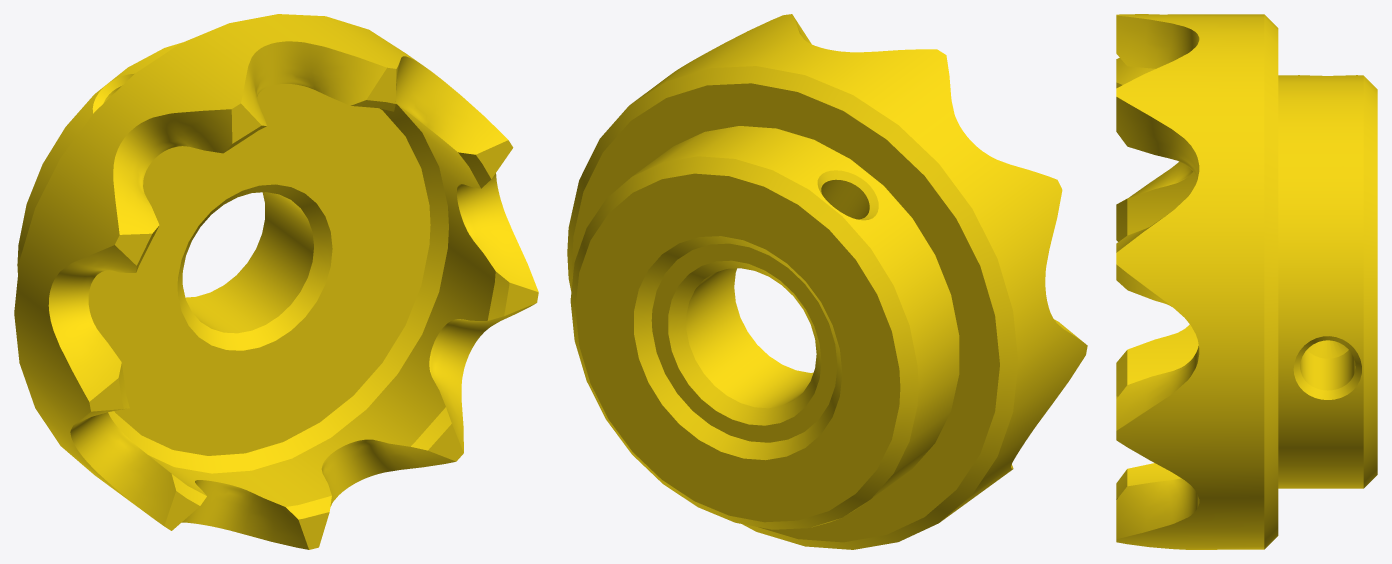
File: A26_W110_crownGear.gltf
The picture shows the model from 3 angles, left to right: view 1: azimuth 30°, elevation 25°; view 2: azimuth 150°, elevation 25°; view 3: azimuth 270°, elevation 25°; orthographic projection. The views are drawn at different scales.
Visible parts, largest first — view 1: mesh16840, mesh16867, mesh16843, mesh16841, mesh16838, mesh16852, mesh16849, mesh16855, mesh16839, mesh16846, mesh16858, mesh16869 (+15 smaller); view 2: mesh16834, mesh16829, mesh16867, mesh16825, mesh16842, mesh16833, mesh16836, mesh16838, mesh16835, mesh16837, mesh16823, mesh16824; view 3: mesh16867, mesh16825, mesh16842, mesh16833, mesh16843, mesh16864, mesh16855, mesh16858, mesh16861, mesh16831, mesh16830, mesh16849 (+4 smaller).
Boxes of the visible parts, x1,y1,x2,y2 form: mesh16840: [88, 84, 430, 455]; mesh16867: [14, 14, 418, 514]; mesh16843: [148, 103, 495, 506]; mesh16841: [108, 104, 448, 473]; mesh16838: [185, 192, 313, 333]; mesh16852: [113, 109, 232, 234]; mesh16849: [48, 245, 136, 401]; mesh16855: [241, 41, 386, 125]; mesh16839: [177, 184, 332, 350]; mesh16846: [70, 408, 175, 525]; mesh16858: [395, 56, 507, 154]; mesh16869: [182, 480, 308, 549]; mesh16834: [575, 173, 900, 522]; mesh16829: [572, 83, 999, 542]; mesh16867: [632, 14, 1087, 521]; mesh16825: [632, 126, 959, 527]; mesh16842: [567, 66, 1018, 549]; mesh16833: [570, 156, 918, 529]; mesh16836: [651, 243, 837, 442]; mesh16838: [686, 268, 813, 408]; mesh16835: [634, 236, 842, 460]; mesh16837: [668, 260, 821, 425]; mesh16823: [821, 179, 869, 219]; mesh16824: [817, 170, 878, 220]; mesh16867: [1116, 14, 1264, 549]; mesh16825: [1278, 75, 1363, 488]; mesh16842: [1264, 14, 1278, 549]; mesh16833: [1363, 76, 1377, 488]; mesh16843: [1127, 172, 1198, 486]; mesh16864: [1116, 478, 1199, 539]; mesh16855: [1116, 15, 1199, 68]; mesh16858: [1116, 97, 1199, 252]; mesh16861: [1116, 264, 1199, 430]; mesh16831: [1300, 350, 1355, 390]; mesh16830: [1293, 336, 1361, 399]; mesh16849: [1120, 162, 1193, 202].
Bounding box in the file's own units: 0.0494 × 0.0494 × 0.024.
